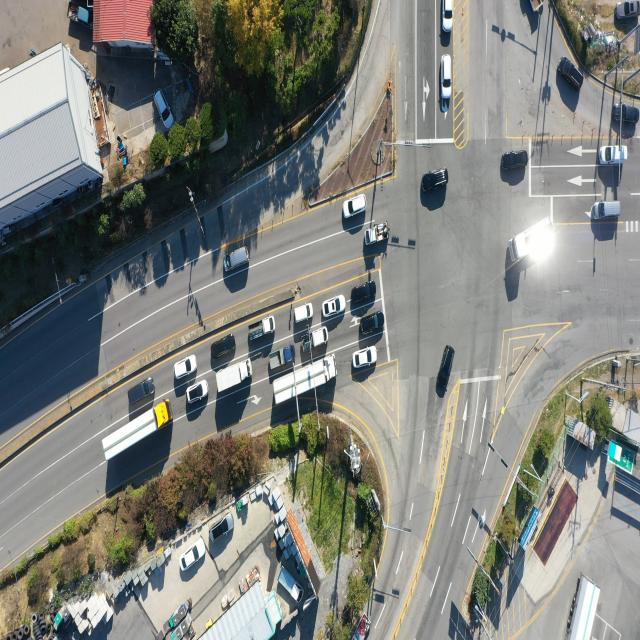car: (437, 343, 456, 398), (559, 59, 585, 94), (181, 539, 206, 575), (223, 247, 250, 275), (128, 378, 155, 406), (156, 90, 174, 130), (422, 168, 450, 192), (211, 517, 234, 546), (358, 313, 384, 338), (352, 346, 378, 370), (612, 100, 636, 126), (593, 199, 621, 221), (601, 145, 630, 166), (343, 196, 367, 220), (212, 336, 236, 360), (502, 149, 529, 170), (174, 354, 197, 378), (322, 296, 345, 319), (186, 380, 208, 404), (351, 281, 375, 303), (615, 0, 640, 20), (443, 55, 454, 100), (294, 304, 314, 325), (443, 0, 454, 32), (351, 442, 361, 474)
medium_truck: (102, 398, 171, 464), (273, 354, 337, 406), (508, 216, 555, 266), (564, 577, 600, 640), (214, 358, 251, 393)
small_truck: (277, 565, 303, 600), (66, 0, 93, 27), (250, 317, 277, 343), (269, 344, 295, 370), (303, 328, 330, 353), (351, 613, 373, 640), (364, 223, 387, 248), (529, 0, 543, 14)
